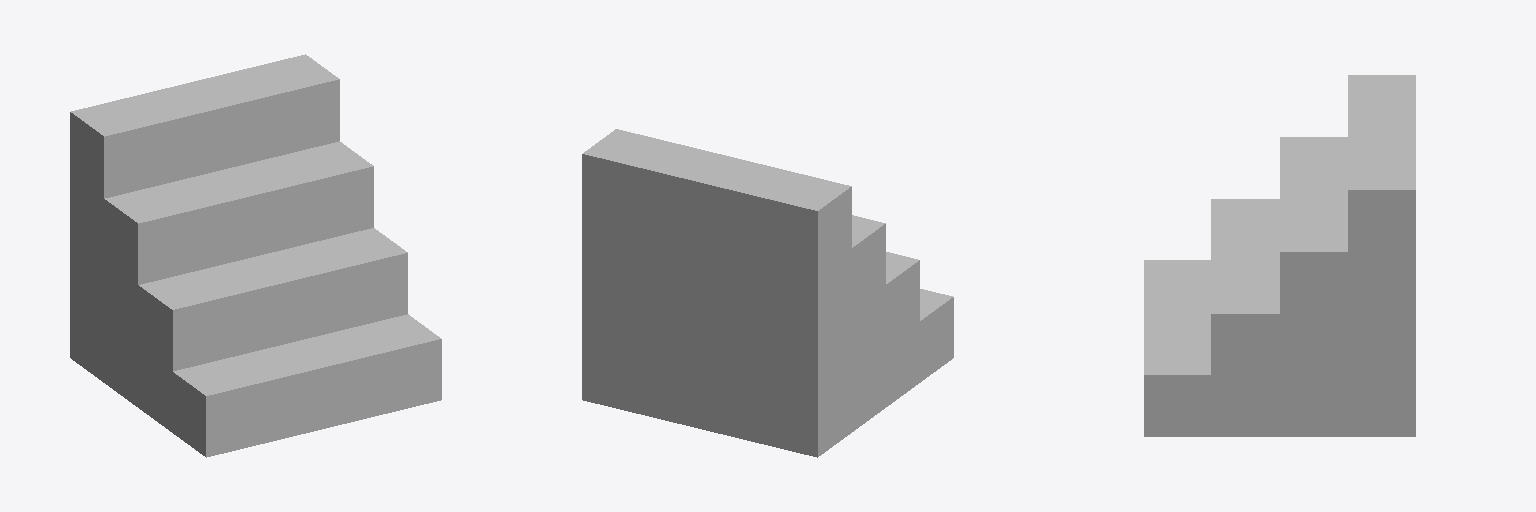
Rendered from stairs1.obj.
The picture shows the model from 3 angles: view 1: azimuth 30°, elevation 25°; view 2: azimuth 150°, elevation 25°; view 3: azimuth 270°, elevation 25°; orthographic projection.
Visible parts, largest first — view 1: Object.1; view 2: Object.1; view 3: Object.1.
Boxes of the visible parts, box(x1,y1,x2,y2) form: Object.1: box(70, 54, 441, 457); Object.1: box(582, 129, 953, 457); Object.1: box(1144, 75, 1415, 436).
Bounding box in the file's own units: 1 × 1 × 1.